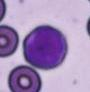L: (22, 25, 68, 70)
